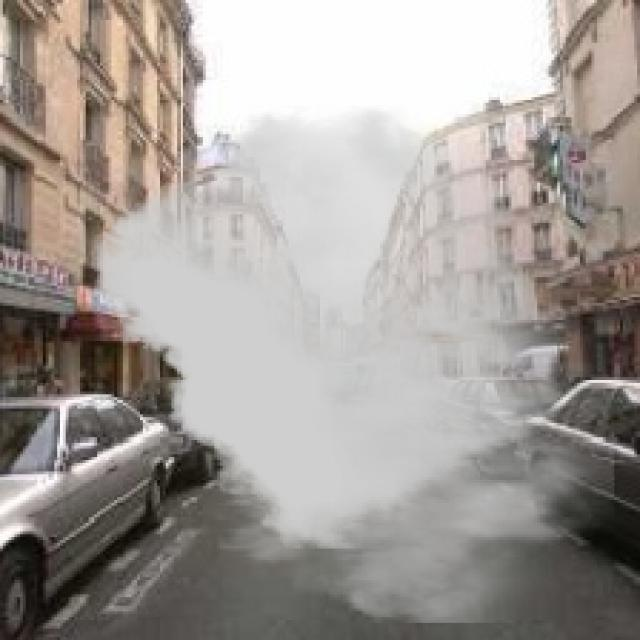Smoke: (95, 106, 614, 623)
